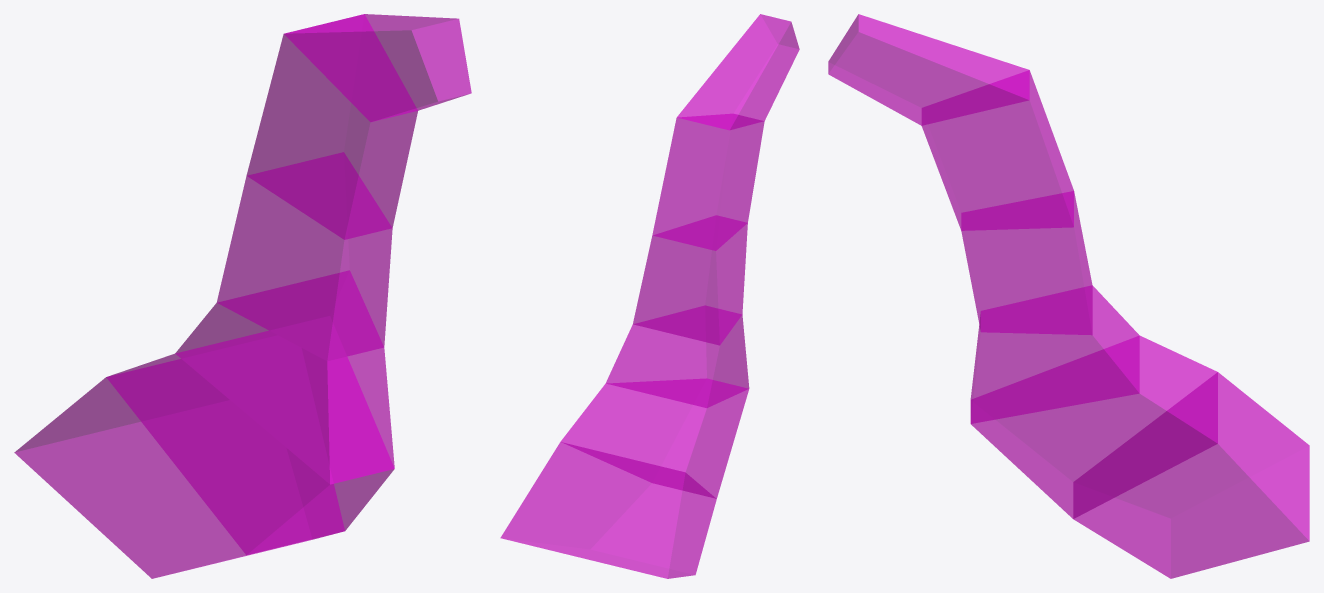
File: SM_Veh_Ship_L_Figurehead_06_Collision.fbx
3 views of the same model, side by side, from view 1: azimuth 30°, elevation 25°; view 2: azimuth 150°, elevation 25°; view 3: azimuth 270°, elevation 25° (orthographic). The views are drawn at different scales.
Parts seen in each view (by area): view 1: SM_Veh_Ship_L_Figurehead_06_Collision; view 2: SM_Veh_Ship_L_Figurehead_06_Collision; view 3: SM_Veh_Ship_L_Figurehead_06_Collision.
Boxes of the visible parts, x1=… form: SM_Veh_Ship_L_Figurehead_06_Collision: x1=14, y1=14, x2=471, y2=578; SM_Veh_Ship_L_Figurehead_06_Collision: x1=500, y1=14, x2=799, y2=578; SM_Veh_Ship_L_Figurehead_06_Collision: x1=828, y1=14, x2=1309, y2=578.
Size of the model in its own units: 320 by 817 by 678.
